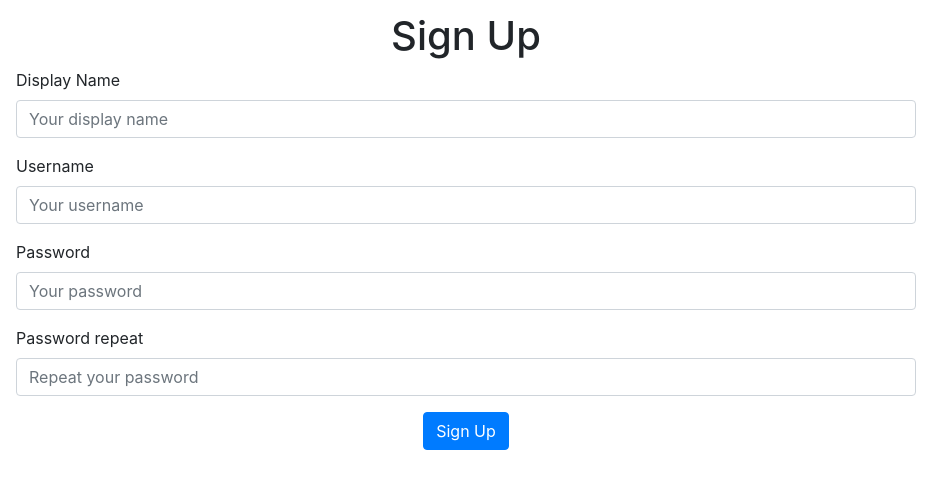
Test: UserSignupPage › Interactions › disables the signup button when password repeat does not match to password
Type "my-display-name" into the field with placeholder "Your display name" at (466, 119), box x1=16 y1=100 x2=916 y2=138
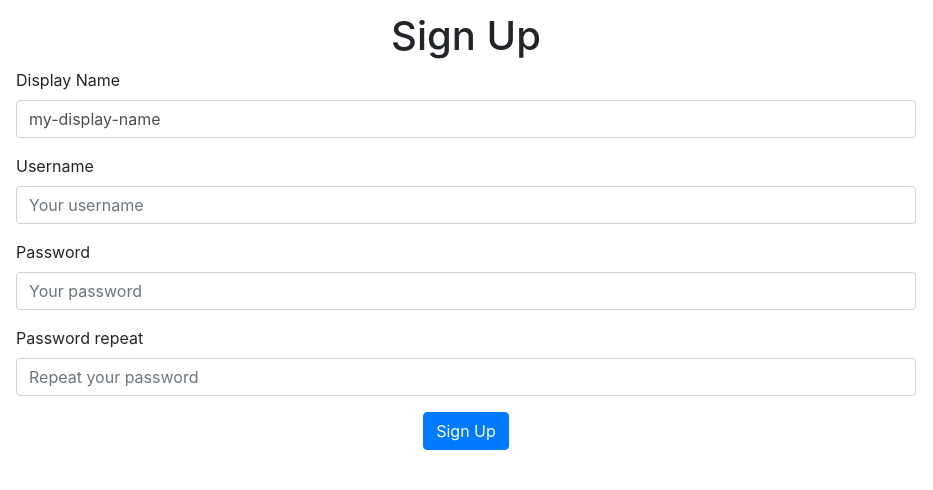
Type "my-user-name" into the field with placeholder "Your username" at (466, 205), box x1=16 y1=186 x2=916 y2=224
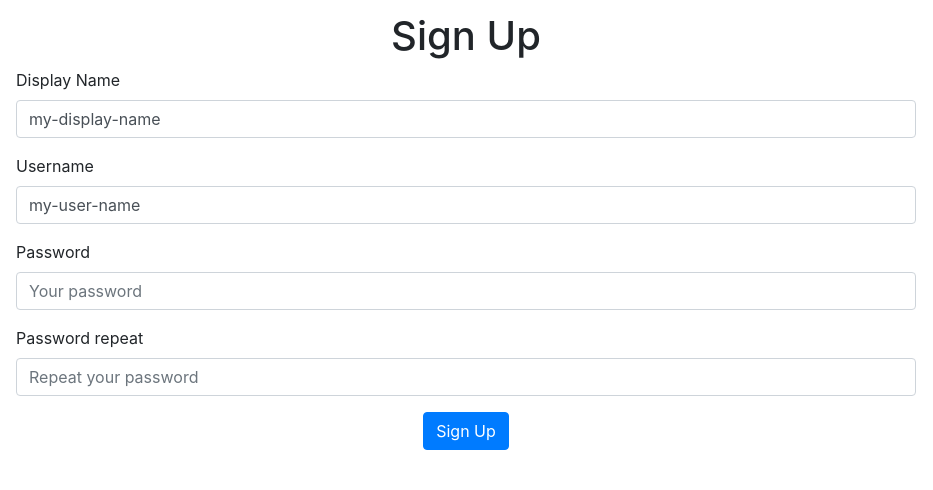
Type "P4ssword" into the password field with placeholder "Your password" at (466, 291), box x1=16 y1=272 x2=916 y2=310
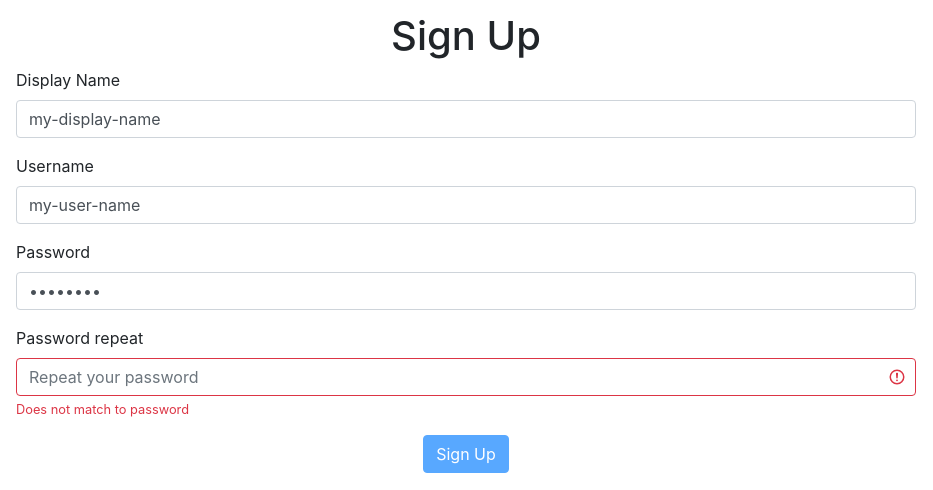
Type "P4ssword" into the password field with placeholder "Repeat your password" at (466, 377), box x1=16 y1=358 x2=916 y2=396
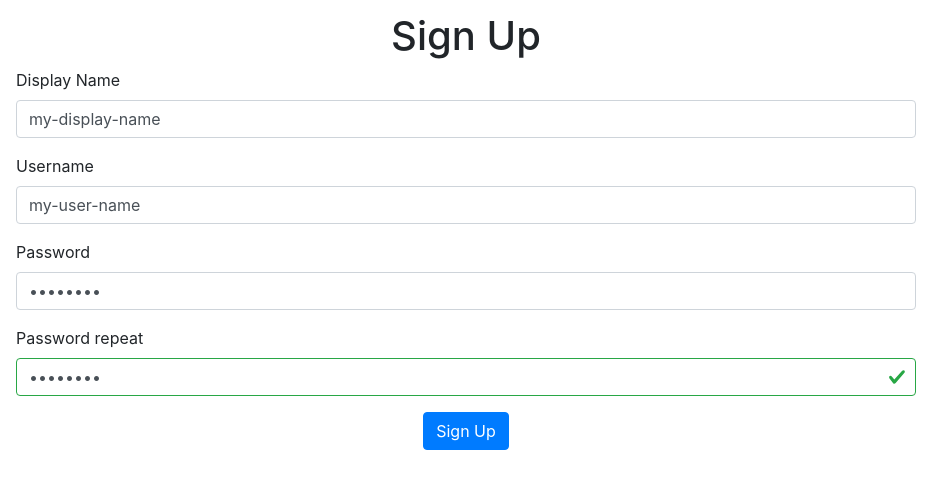
Type "new-pass" into the password field with placeholder "Repeat your password" below "Password repeat" at (466, 377), box x1=16 y1=358 x2=916 y2=396
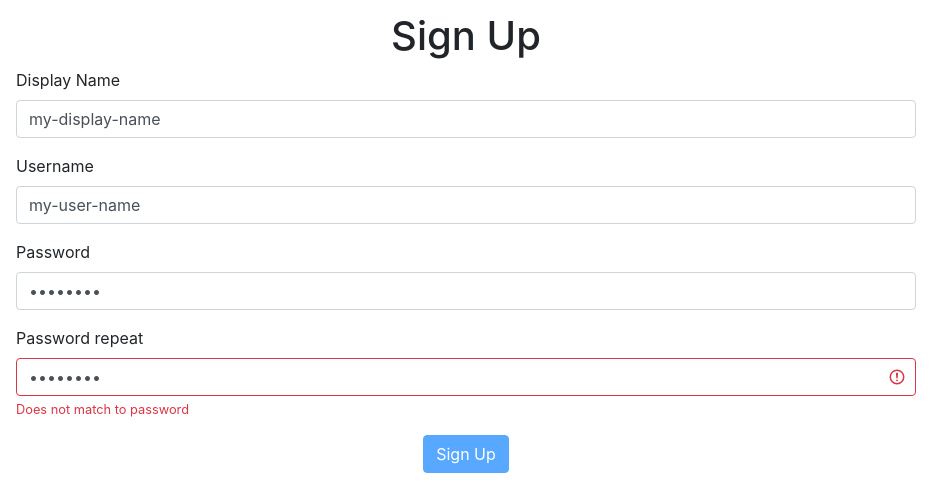
Now the button "Sign Up" is disabled, box x1=423 y1=435 x2=509 y2=473
